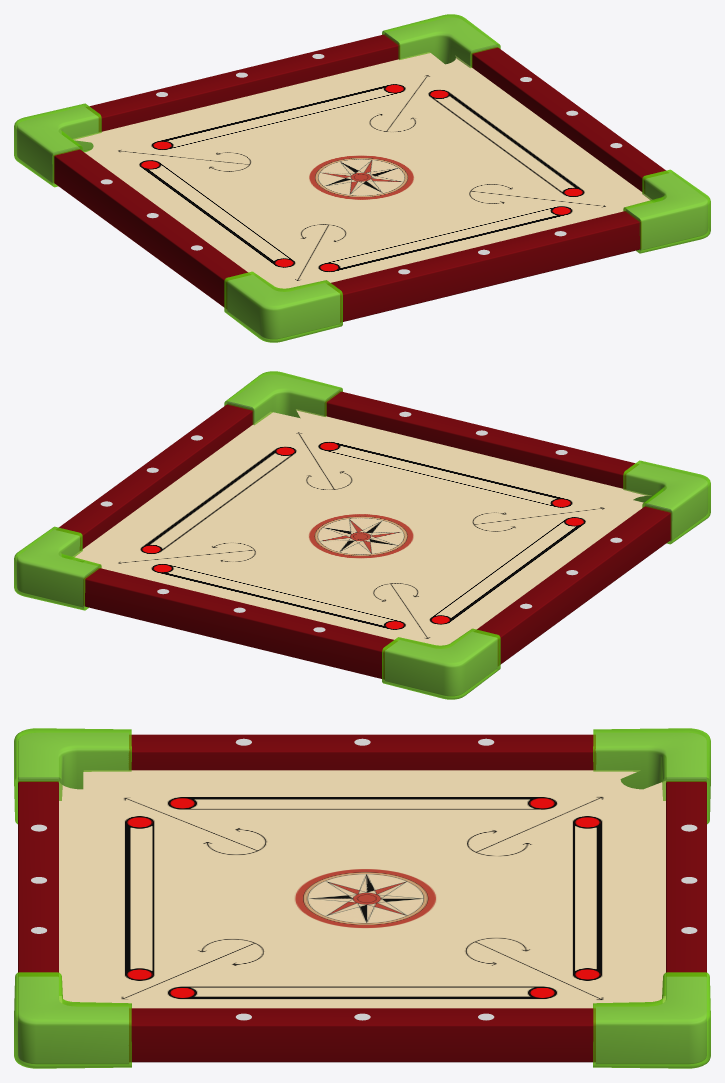
Rendered from SquareBoardNew.fbx.
3 views of the same model, one above another, from view 1: azimuth 30°, elevation 25°; view 2: azimuth 150°, elevation 25°; view 3: azimuth 270°, elevation 25° (orthographic). The views are drawn at different scales.
Visible parts, largest first — view 1: DisPlayBase, Edge, HoleGlow1, HoleEdge1, HoleGlow2, HoleGlow4, HoleEdge2, HoleGlow3, HoleEdge4, HoleEdge3; view 2: DisPlayBase, Edge, HoleGlow4, HoleEdge4, HoleGlow3, HoleGlow1, HoleEdge3, HoleGlow2, HoleEdge1, HoleEdge2; view 3: DisPlayBase, Edge, HoleGlow2, HoleGlow3, HoleEdge2, HoleEdge3, HoleGlow4, HoleGlow1, HoleEdge4, HoleEdge1, WhiteDotsSet2, WhiteDotsSet1.
Boxes of the visible parts, x1=… form: DisPlayBase: x1=73, y1=52, x2=651, y2=288; Edge: x1=53, y1=34, x2=665, y2=322; HoleGlow1: x1=224, y1=271, x2=342, y2=342; HoleEdge1: x1=227, y1=275, x2=339, y2=338; HoleGlow2: x1=623, y1=169, x2=710, y2=253; HoleGlow4: x1=14, y1=103, x2=101, y2=187; HoleEdge2: x1=626, y1=173, x2=707, y2=250; HoleGlow3: x1=382, y1=14, x2=500, y2=67; HoleEdge4: x1=17, y1=106, x2=98, y2=183; HoleEdge3: x1=385, y1=18, x2=497, y2=66; DisPlayBase: x1=73, y1=409, x2=650, y2=645; Edge: x1=59, y1=391, x2=671, y2=679; HoleGlow4: x1=382, y1=628, x2=500, y2=699; HoleEdge4: x1=385, y1=632, x2=497, y2=695; HoleGlow3: x1=14, y1=526, x2=101, y2=610; HoleGlow1: x1=623, y1=460, x2=710, y2=544; HoleEdge3: x1=17, y1=530, x2=98, y2=607; HoleGlow2: x1=224, y1=371, x2=342, y2=424; HoleEdge1: x1=626, y1=463, x2=707, y2=540; HoleEdge2: x1=227, y1=375, x2=339, y2=423; DisPlayBase: x1=59, y1=770, x2=665, y2=1008; Edge: x1=18, y1=734, x2=706, y2=1062; HoleGlow2: x1=14, y1=972, x2=131, y2=1068; HoleGlow3: x1=593, y1=972, x2=710, y2=1068; HoleEdge2: x1=18, y1=977, x2=128, y2=1063; HoleEdge3: x1=596, y1=977, x2=706, y2=1063; HoleGlow4: x1=593, y1=728, x2=710, y2=824; HoleGlow1: x1=14, y1=728, x2=131, y2=824; HoleEdge4: x1=596, y1=733, x2=706, y2=788; HoleEdge1: x1=18, y1=733, x2=128, y2=788; WhiteDotsSet2: x1=235, y1=738, x2=494, y2=1020; WhiteDotsSet1: x1=31, y1=824, x2=697, y2=933.
Bounding box in the file's own units: 1.7 × 0.1333 × 1.7.
